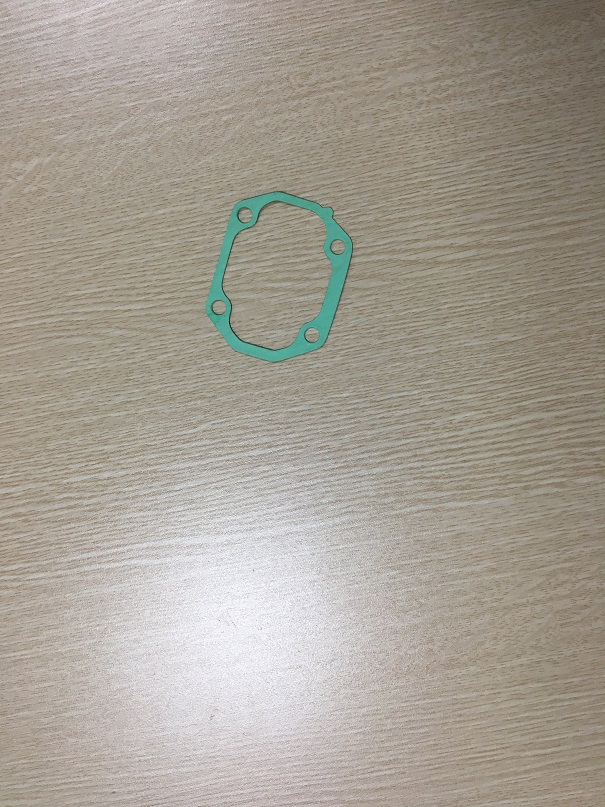type2: (193, 180, 366, 364)
